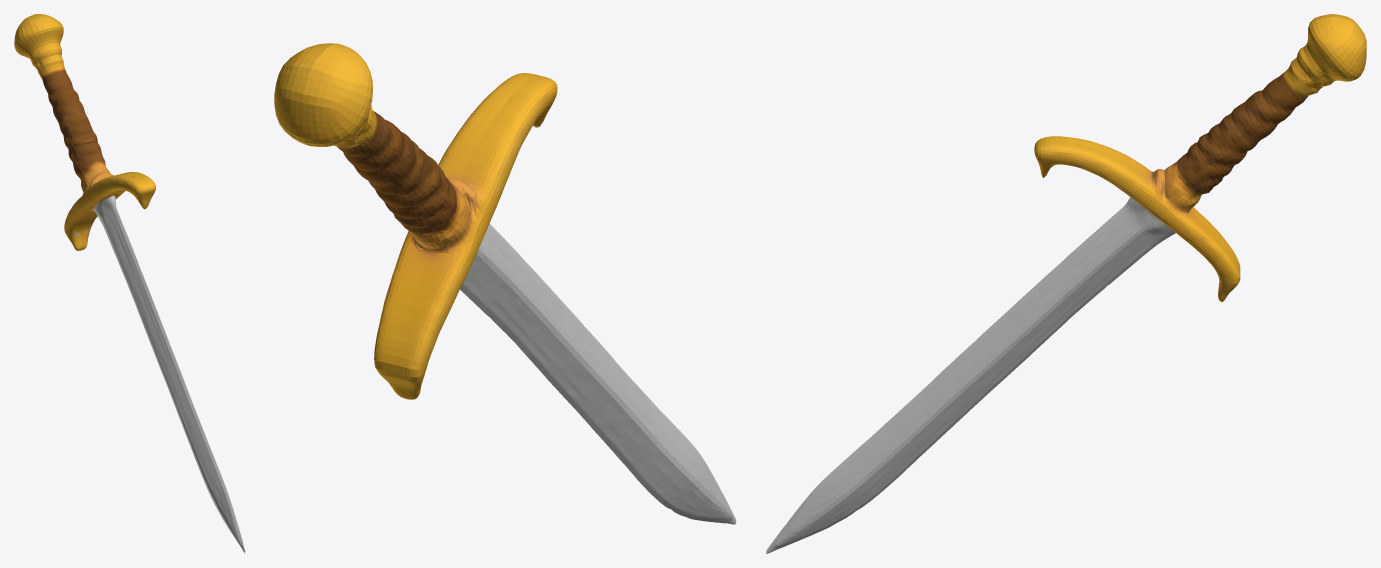
The model's file is sword_scaled.glb.
The picture shows the model from 3 angles, left to right: view 1: azimuth 30°, elevation 25°; view 2: azimuth 150°, elevation 25°; view 3: azimuth 270°, elevation 25°; orthographic projection. The views are drawn at different scales.
Visible parts, largest first — view 1: model; view 2: model; view 3: model.
Boxes of the visible parts, left/top/right/bottom form: model: left=14, top=14, right=245, bottom=553; model: left=274, top=43, right=736, bottom=524; model: left=766, top=14, right=1366, bottom=553.
Size of the model in its own units: 0.0265 by 0.2187 by 0.2221.
1 material, 1 textured.
